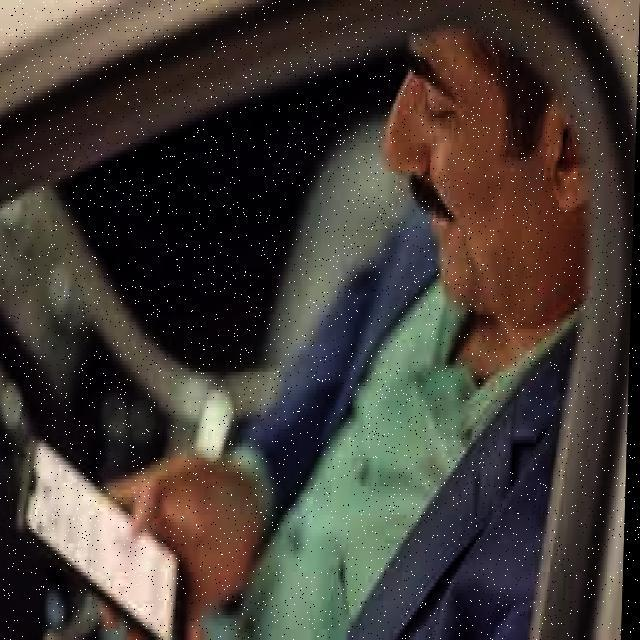noSeatbelt: (262, 241, 607, 640)
